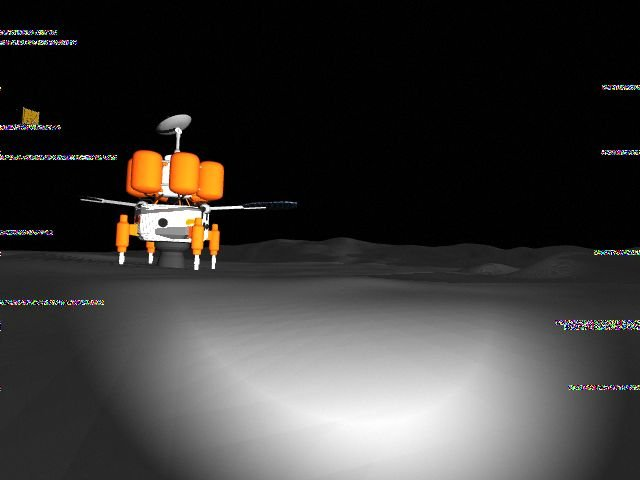cubesat: (10, 102, 43, 128)
